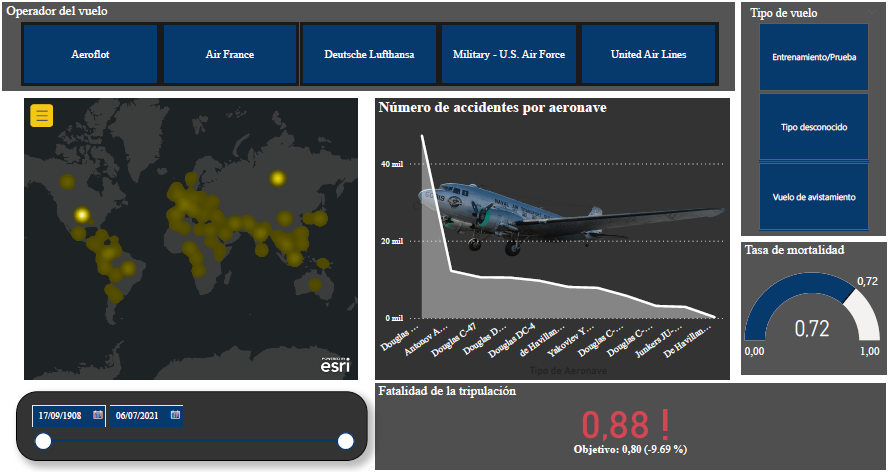

What the dashboard file says about the page in this screenshot:
{"tool":"powerbi","page":{"name":"Página 1","canvas":[1280,720],"ordinal":0},"visuals":[{"type":"slicer","fields":{"Values":["df_AE.fecha"]},"box":[18.6,597.1,500,98.6],"z":0},{"type":"esriVisual","fields":{"Location":["df_AE.Pais"],"Size":["Sum(df_AE.Muertes totales)"]},"box":[26.7,175,483.3,410],"z":1000},{"type":"slicer","title":"Operador del vuelo","fields":{"Values":["df_AE.Operador"]},"box":[0,43.3,1041.7,125],"z":2000},{"type":"slicer","fields":{"Values":["df_AE.Tipo de vuelo"]},"box":[1050.7,43.9,206.3,330.7],"z":3000},{"type":"stackedAreaChart","title":"Número de accidentes por aeronave","fields":{"Category":["df_AE.Tipo de Aeronave"],"Y":["Sum(df_AE.Muertes totales)"]},"box":[530,180,505,400],"z":4000},{"type":"gauge","title":"Tasa de mortalidad","fields":{"Y":["Divide(df_AE.Tasa de supervivencia/mortalidad, ScopedEval(df_AE.Tasa de supervivencia/mortalidad, []))"]},"box":[1050,385,206.7,188.3],"z":5000},{"type":"textbox","box":[0,0,1278.6,62.9],"z":6000},{"type":"kpi","title":"Fatalidad de la tripulación ","fields":{"Goal":["df_AE.KPI objetivo"],"Indicator":["Sum(df_AE.KPI mortalidad)"],"TrendLine":["df_AE.Muertes de tripulacion"]},"box":[530,585,726.7,123.3],"z":7000}]}

Visuals, with their boxes in screenshot pixels (x1, y1, x2, y2):
slicer - df_AE.fecha: 20:387:367:455
esriVisual - df_AE.Pais x Sum(df_AE.Muertes totales): 25:94:361:379
"Operador del vuelo" slicer: 7:2:730:89
slicer - df_AE.Tipo de vuelo: 737:3:880:232
"Número de accidentes por aeronave" stackedAreaChart: 375:97:726:375
"Tasa de mortalidad" gauge: 736:240:880:370
textbox: 7:0:887:16
"Fatalidad de la tripulación " kpi: 375:379:880:464
